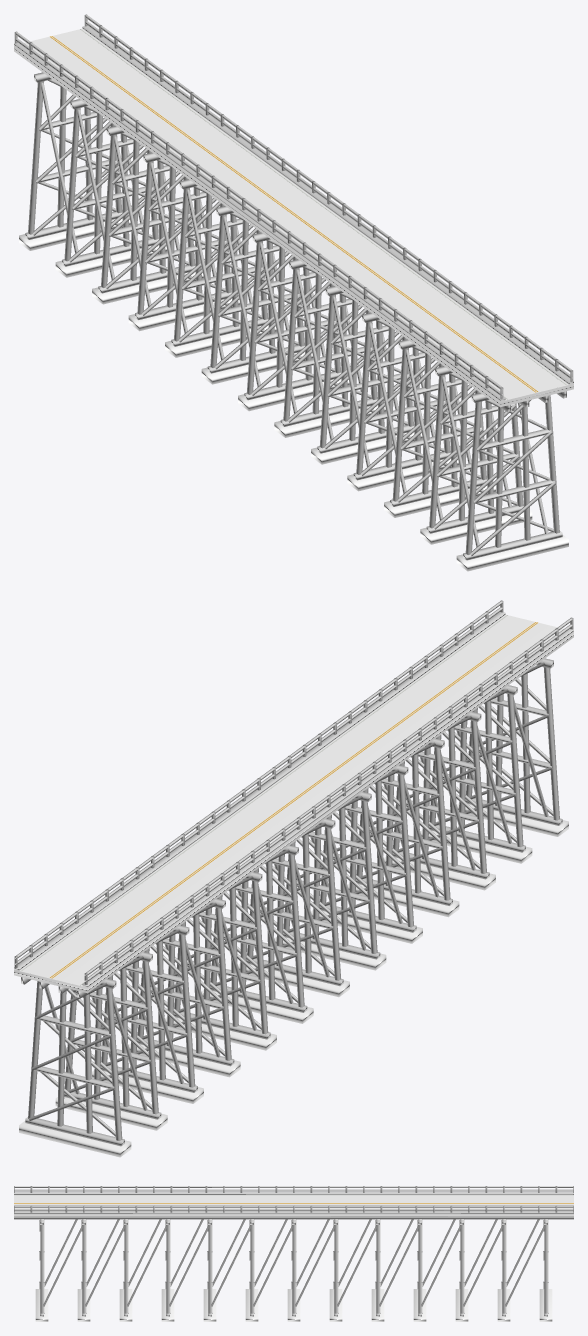
File: bridge-lod2.fbx
3 views of the same model, one above another, from view 1: azimuth 30°, elevation 25°; view 2: azimuth 150°, elevation 25°; view 3: azimuth 270°, elevation 25° (orthographic). The views are drawn at different scales.
Visible parts, largest first — view 1: BridgeStructure_LOD2.001, BridgeDeck_LOD2.001, BridgeSupports_LOD2.001, BridgeParapets_LOD2.001, BridgeRoadPaint_LOD2.001; view 2: BridgeStructure_LOD2.001, BridgeDeck_LOD2.001, BridgeSupports_LOD2.001, BridgeParapets_LOD2.001, BridgeRoadPaint_LOD2.001; view 3: BridgeDeck_LOD2.001, BridgeStructure_LOD2.001, BridgeParapets_LOD2.001, BridgeSupports_LOD2.001, BridgeRoadPaint_LOD2.001.
Boxes of the visible parts, x1,y1,x2,y2 form: BridgeStructure_LOD2.001: [25, 72, 566, 560]; BridgeDeck_LOD2.001: [14, 26, 573, 407]; BridgeSupports_LOD2.001: [19, 218, 568, 571]; BridgeParapets_LOD2.001: [14, 14, 573, 398]; BridgeRoadPaint_LOD2.001: [50, 29, 566, 399]; BridgeStructure_LOD2.001: [21, 658, 562, 1146]; BridgeDeck_LOD2.001: [14, 612, 573, 993]; BridgeSupports_LOD2.001: [19, 803, 568, 1157]; BridgeParapets_LOD2.001: [14, 600, 573, 984]; BridgeRoadPaint_LOD2.001: [21, 615, 537, 985]; BridgeDeck_LOD2.001: [14, 1192, 573, 1217]; BridgeStructure_LOD2.001: [14, 1217, 573, 1316]; BridgeParapets_LOD2.001: [14, 1186, 573, 1212]; BridgeSupports_LOD2.001: [35, 1289, 552, 1321]; BridgeRoadPaint_LOD2.001: [14, 1195, 573, 1203].
Size of the model in its own units: 9.6 by 17.58 by 80.
